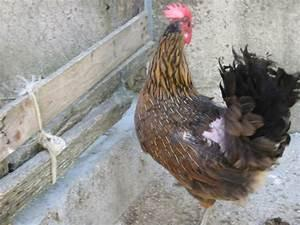hen: (132, 0, 299, 224)
